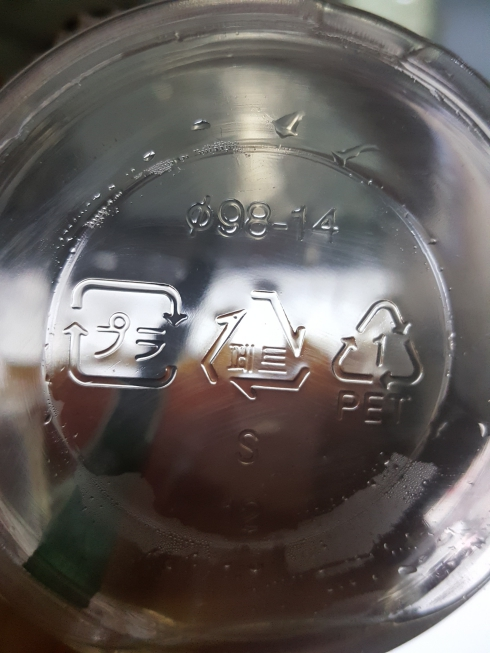recycle: (328, 286, 428, 433)
